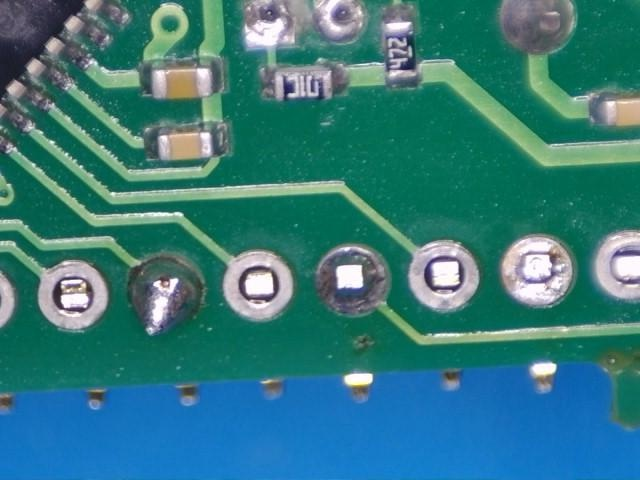pcb_defect: (131, 259, 201, 336), (317, 246, 387, 315), (503, 237, 572, 306)
